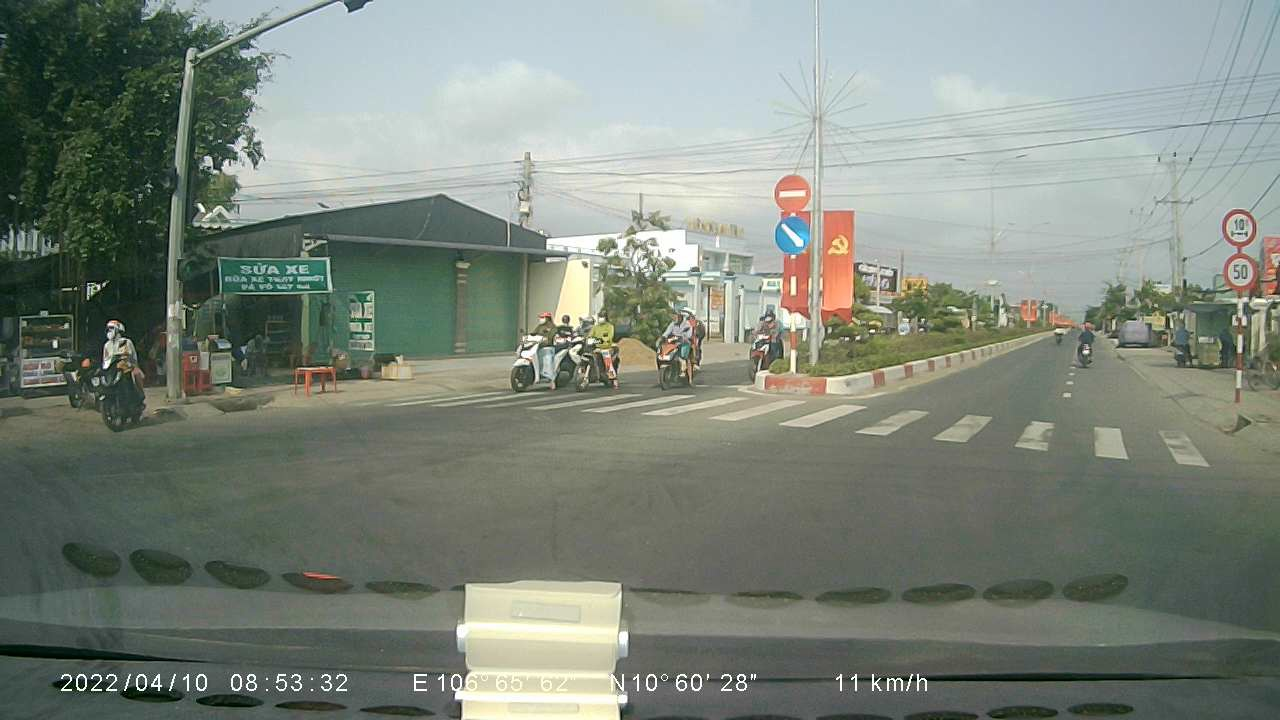Bien khac: (1218, 250, 1259, 291), (1219, 204, 1258, 247)
Cam di nguoc chieu: (770, 173, 810, 210)
Huong di phai re phai: (770, 212, 810, 255)
